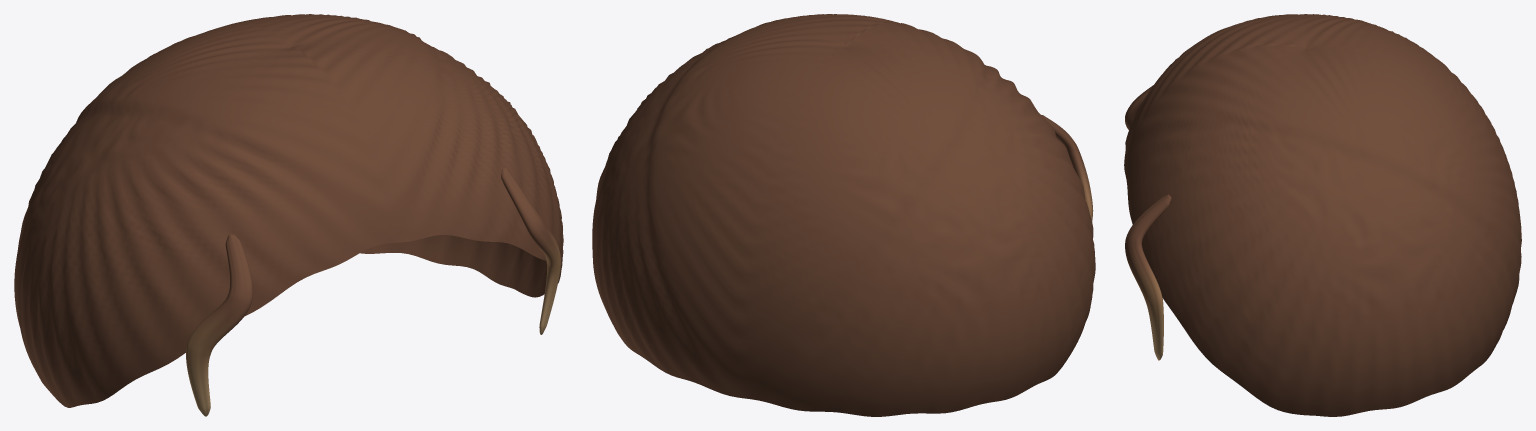
File: Ombre-1da0a6b29b01253-hair.glb
3 views of the same model, side by side, from view 1: azimuth 30°, elevation 25°; view 2: azimuth 150°, elevation 25°; view 3: azimuth 270°, elevation 25° (orthographic). The views are drawn at different scales.
Visible parts, largest first — view 1: 226 hair / Hair / chestnut226.001; view 2: 226 hair / Hair / chestnut226.001; view 3: 226 hair / Hair / chestnut226.001.
Boxes of the visible parts, box(x1,y1,x2,y2) form: 226 hair / Hair / chestnut226.001: box(14, 14, 563, 416); 226 hair / Hair / chestnut226.001: box(592, 14, 1095, 416); 226 hair / Hair / chestnut226.001: box(1124, 14, 1521, 416).
Bounding box in the file's own units: 0.9988 × 0.599 × 0.7845.
Materials: 1 (1 with a texture image).
